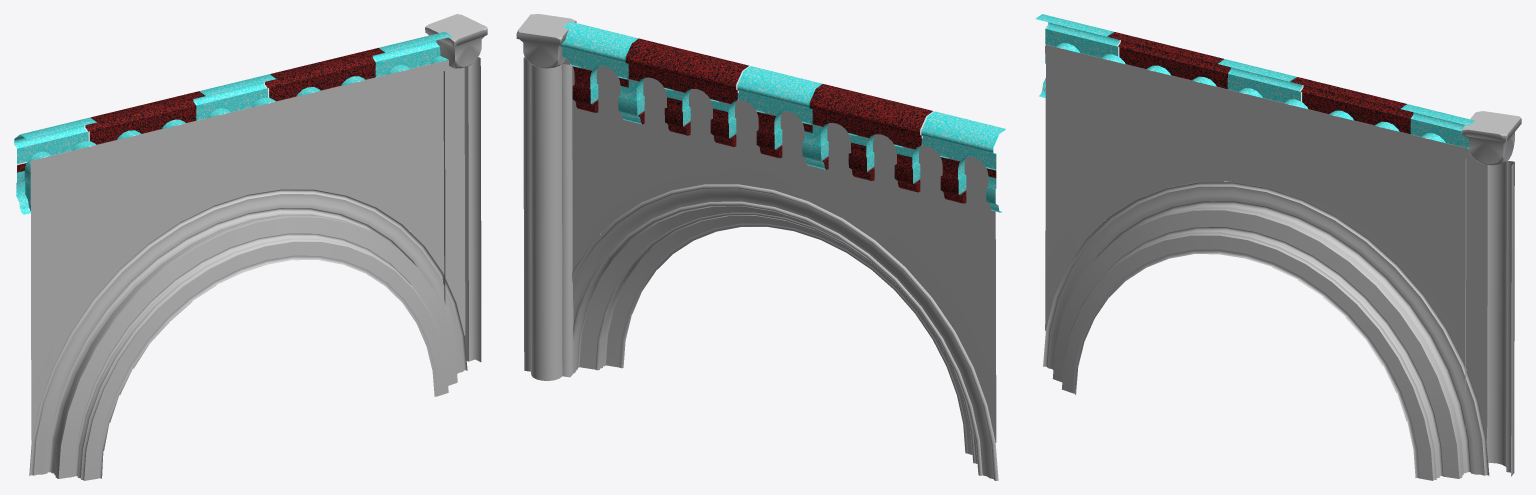
3 views of the same model, side by side, from view 1: azimuth 30°, elevation 25°; view 2: azimuth 150°, elevation 25°; view 3: azimuth 330°, elevation 25° (orthographic). The views are drawn at different scales.
Parts seen in each view (by area): view 1: SM_ArcadeCeiling02_LOD0; view 2: SM_ArcadeCeiling02_LOD0; view 3: SM_ArcadeCeiling02_LOD0.
Boxes of the visible parts, x1,y1,x2,y2 form: SM_ArcadeCeiling02_LOD0: (14,14,487,480); SM_ArcadeCeiling02_LOD0: (516,14,1005,480); SM_ArcadeCeiling02_LOD0: (1035,14,1521,480).
Bounding box in the file's own units: 8.76 × 6.18 × 1.34.
